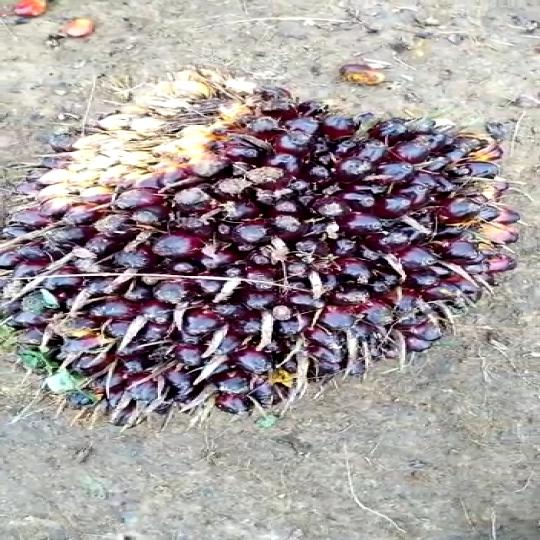mentah: (0, 70, 512, 425)
